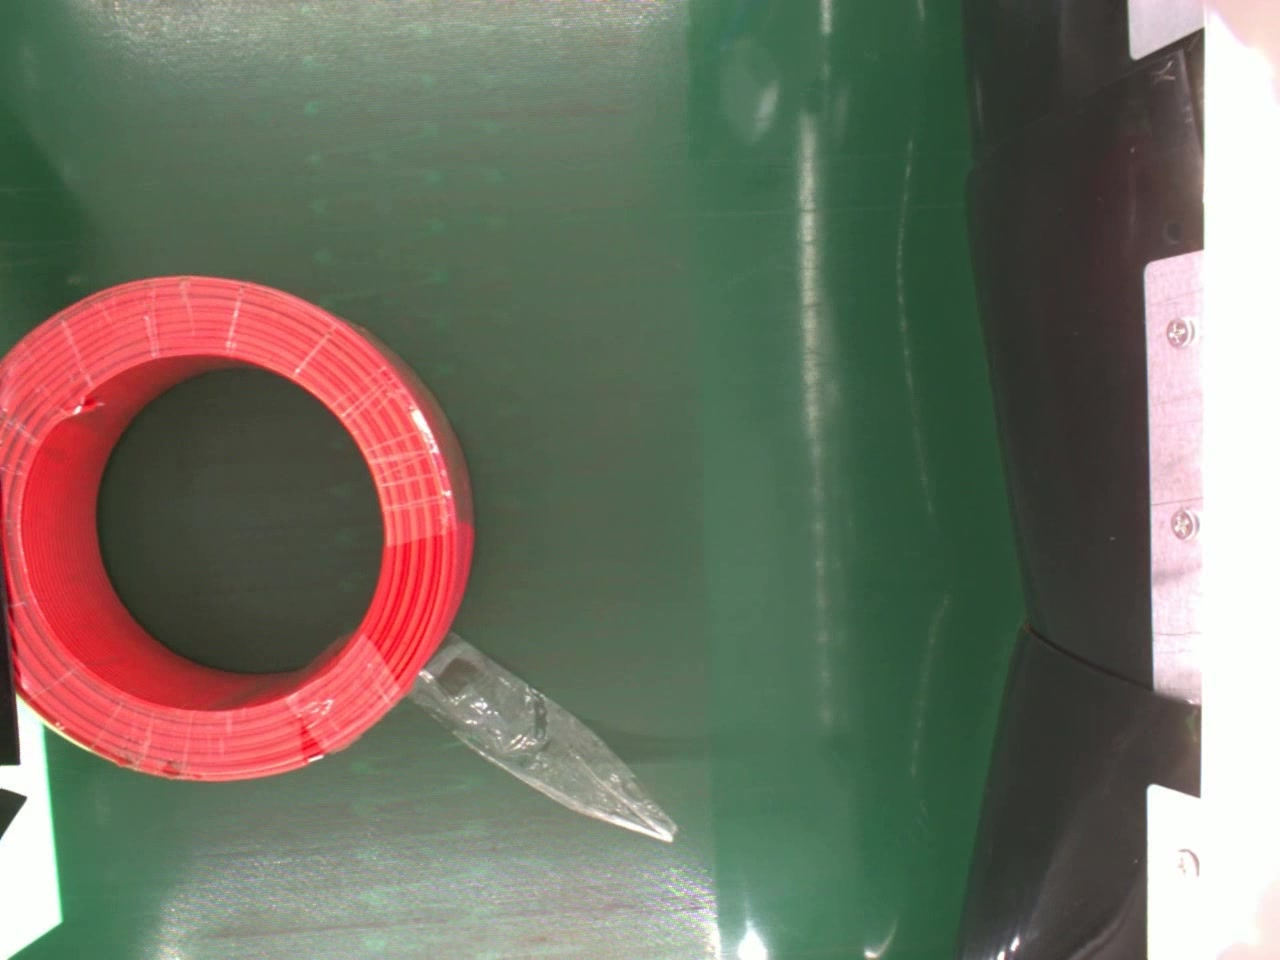red: (0, 273, 473, 781)
